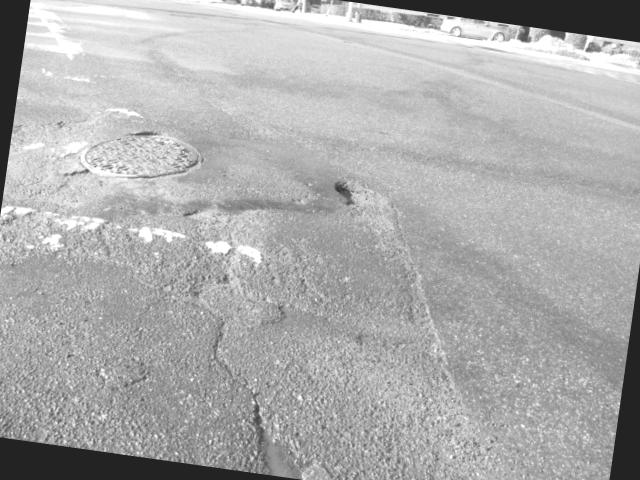Pothole: (51, 100, 382, 248)
